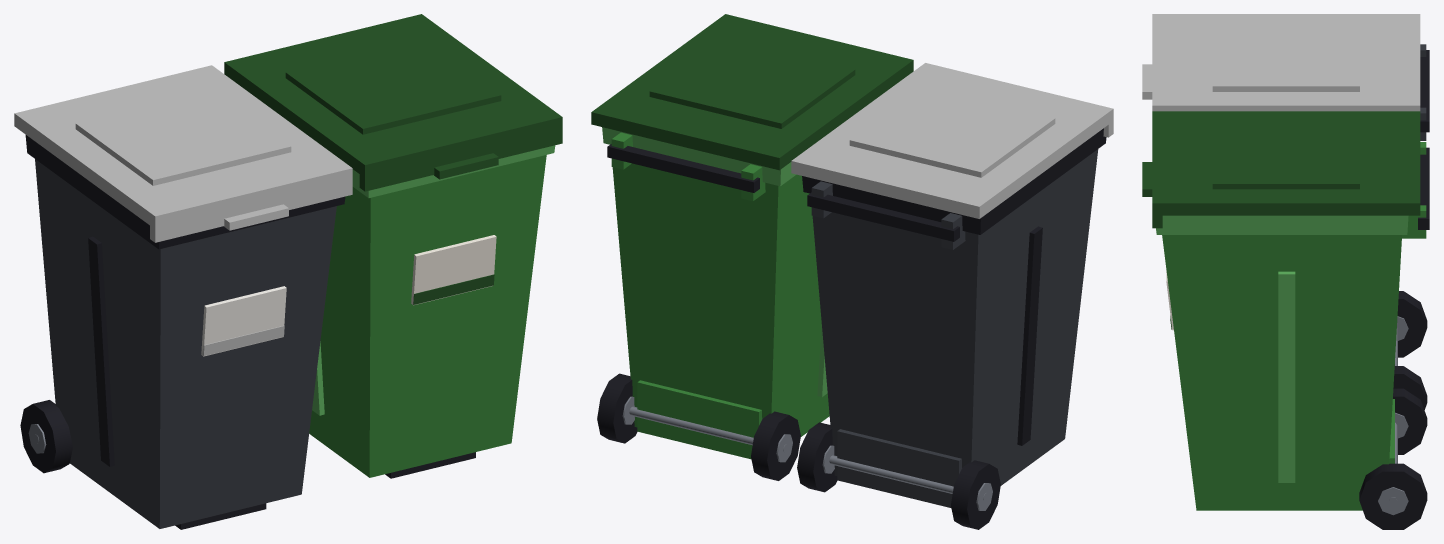
Rendered from tongsampah.glb.
The picture shows the model from 3 angles, left to right: view 1: azimuth 30°, elevation 25°; view 2: azimuth 150°, elevation 25°; view 3: azimuth 270°, elevation 25°; orthographic projection. The views are drawn at different scales.
Visible parts, largest first — view 1: body_asphalt, body_lawn_green, lid_pastel_siding, lid_lawn_green_dark, body_soot_black, plate_warm_white, plate_white_trim, wheels_soot_black, body_lawn_green_light, plate_pastel_siding, plate_lawn_green_dark; view 2: body_asphalt, body_lawn_green, lid_pastel_siding, lid_lawn_green_dark, wheels_soot_black, body_soot_black, handle_soot_black, wheels_mid_grey, body_lawn_green_light, handle_lawn_green, handle_asphalt; view 3: body_lawn_green, lid_lawn_green_dark, lid_pastel_siding, body_lawn_green_light, wheels_soot_black, handle_soot_black, wheels_mid_grey, handle_lawn_green.
Part boxes in pixels (left/top/right/bottom): body_asphalt: left=35, top=159, right=336, bottom=528; body_lawn_green: left=309, top=155, right=546, bottom=477; lid_pastel_siding: left=14, top=65, right=352, bottom=242; lid_lawn_green_dark: left=224, top=14, right=562, bottom=191; body_soot_black: left=25, top=135, right=475, bottom=529; plate_warm_white: left=411, top=235, right=496, bottom=305; plate_white_trim: left=201, top=286, right=286, bottom=356; wheels_soot_black: left=20, top=400, right=72, bottom=473; body_lawn_green_light: left=312, top=145, right=555, bottom=415; plate_pastel_siding: left=201, top=325, right=284, bottom=355; plate_lawn_green_dark: left=413, top=274, right=494, bottom=304; body_asphalt: left=812, top=149, right=1098, bottom=507; body_lawn_green: left=612, top=163, right=829, bottom=459; lid_pastel_siding: left=791, top=63, right=1113, bottom=218; lid_lawn_green_dark: left=591, top=14, right=913, bottom=170; wheels_soot_black: left=597, top=373, right=1000, bottom=529; body_soot_black: left=802, top=128, right=1106, bottom=445; handle_soot_black: left=607, top=144, right=959, bottom=241; wheels_mid_grey: left=622, top=396, right=992, bottom=510; body_lawn_green_light: left=602, top=127, right=827, bottom=396; handle_lawn_green: left=611, top=132, right=765, bottom=200; handle_asphalt: left=811, top=181, right=965, bottom=249; body_lawn_green: left=1162, top=235, right=1401, bottom=510; lid_lawn_green_dark: left=1142, top=111, right=1420, bottom=228; lid_pastel_siding: left=1142, top=14, right=1420, bottom=111; body_lawn_green_light: left=1156, top=215, right=1408, bottom=482; wheels_soot_black: left=1359, top=291, right=1427, bottom=529; handle_soot_black: left=1418, top=50, right=1429, bottom=229; wheels_mid_grey: left=1378, top=316, right=1408, bottom=515; handle_lawn_green: left=1402, top=142, right=1426, bottom=238.
Size of the model in its own units: 1.32 by 1.1 by 0.8475.
